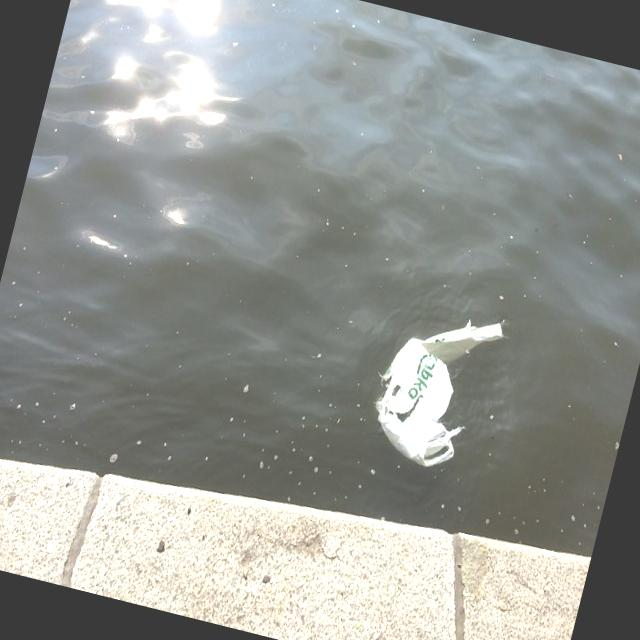Trash: (358, 297, 506, 476)
